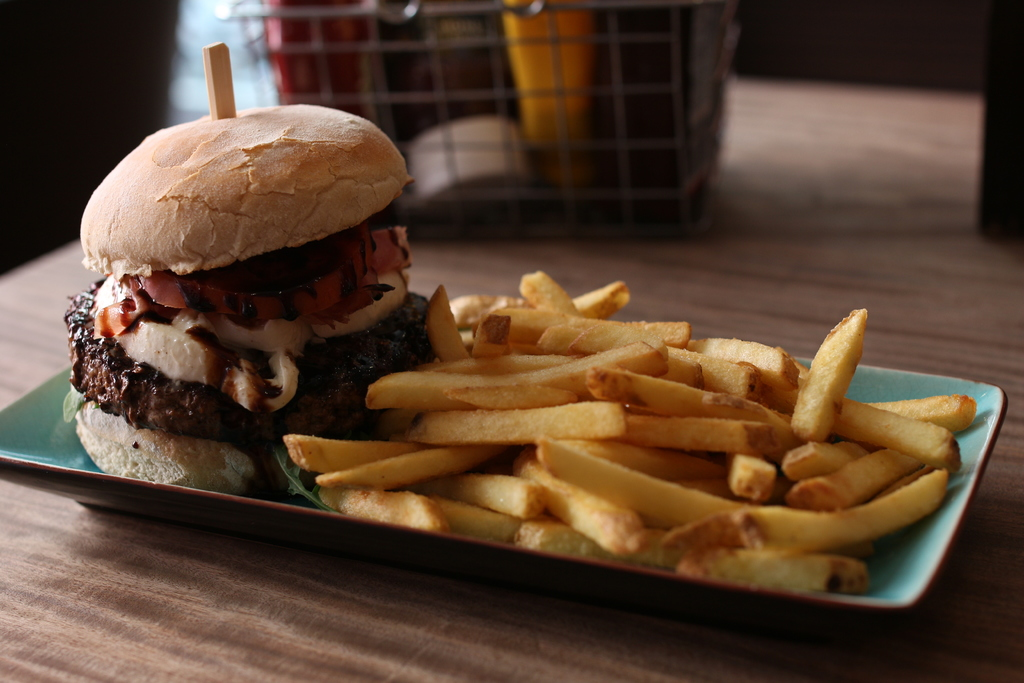French fries: (277, 262, 977, 590)
